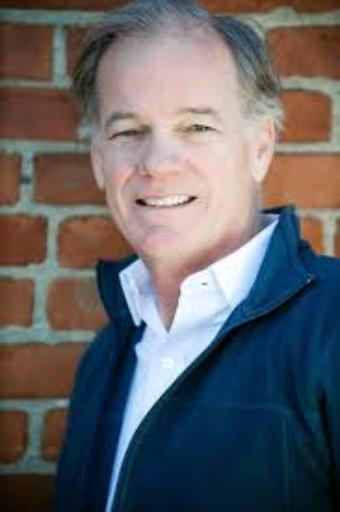left_eye: (182, 122, 222, 143)
left_lip_corner: (189, 190, 205, 209)
right_eye: (110, 129, 144, 146)
right_lip_corner: (131, 195, 149, 213)
